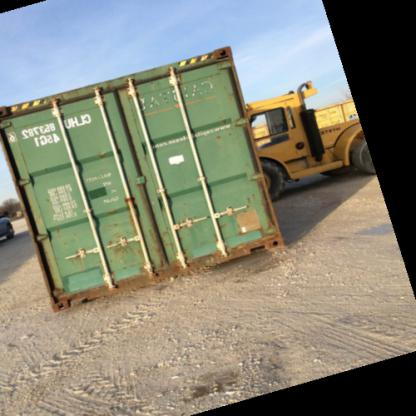Damage: (107, 222, 152, 264), (232, 193, 267, 241), (131, 84, 177, 108), (182, 73, 217, 97), (51, 220, 86, 242), (209, 116, 236, 141), (90, 143, 114, 164), (68, 247, 88, 264), (212, 45, 231, 61)
